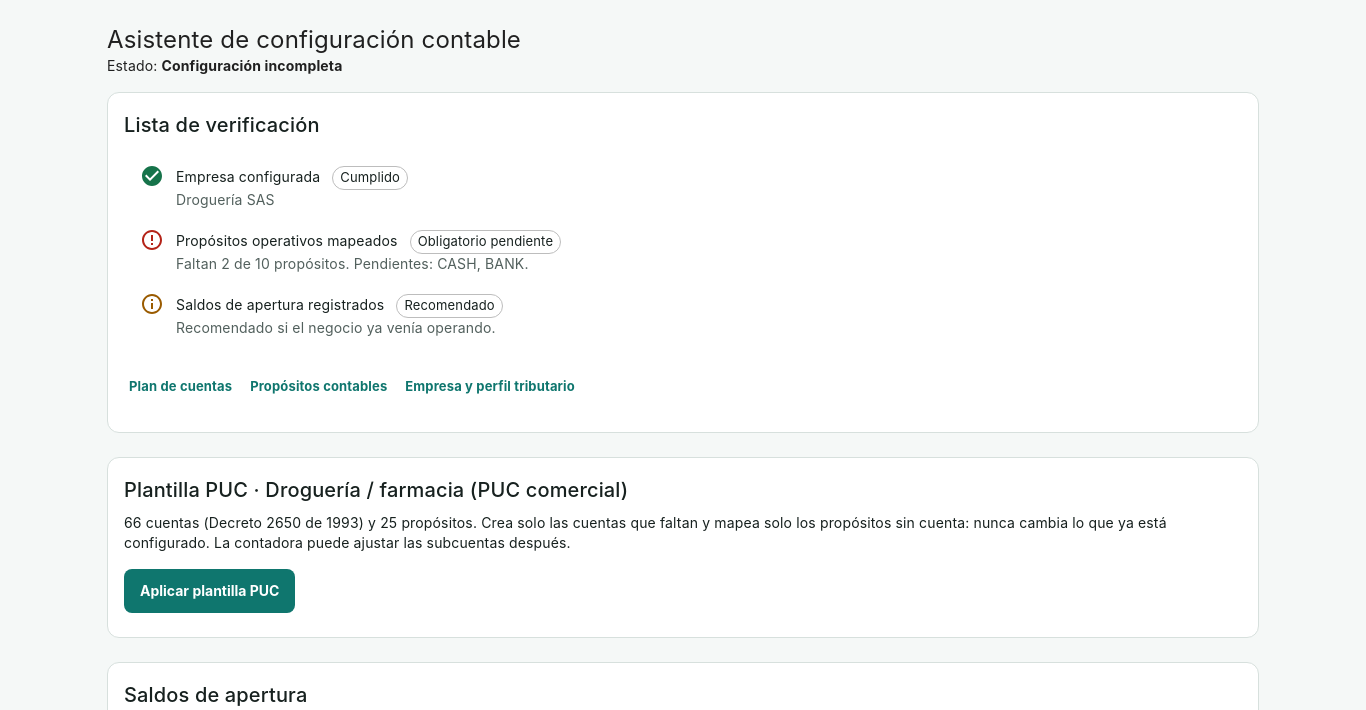
it: Asistente de configuración contable (F7) › aplica la plantilla PUC e informa el resultado
Click the button "Aplicar plantilla PUC": {"x": 210, "y": 591} left=124, top=569, right=296, bottom=613
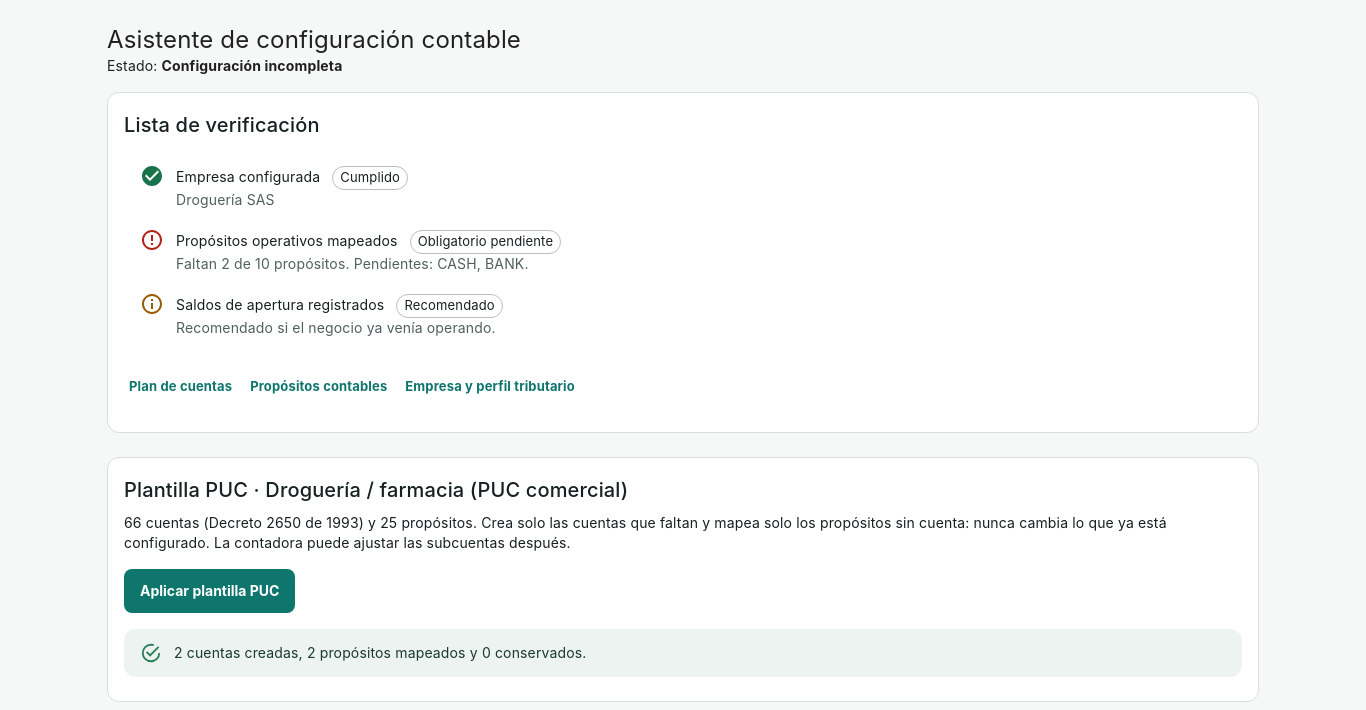
Check: the text "2 cuentas creadas, 2 propósitos mapeados y 0 conservados." is shown, box left=174, top=644, right=586, bottom=661
